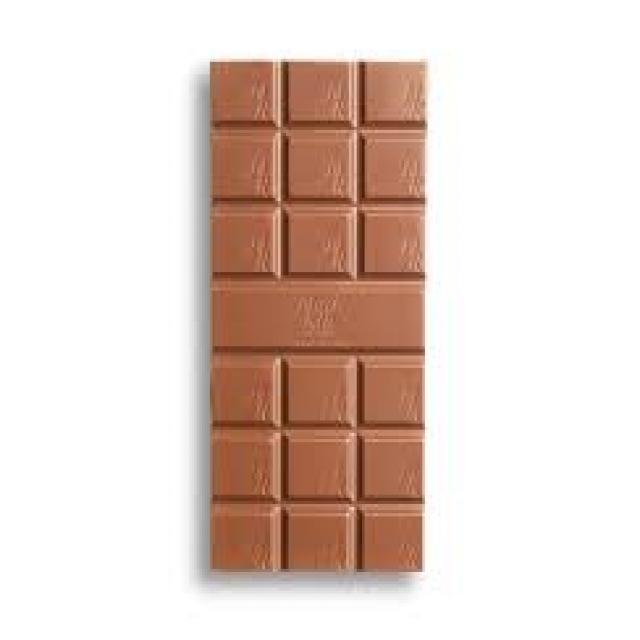chocolate: (210, 57, 425, 579)
